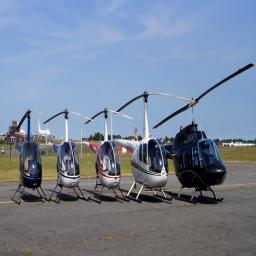helicopter: (166, 65, 256, 205), (117, 96, 190, 206), (86, 116, 136, 204), (49, 111, 94, 205), (9, 110, 47, 209)
